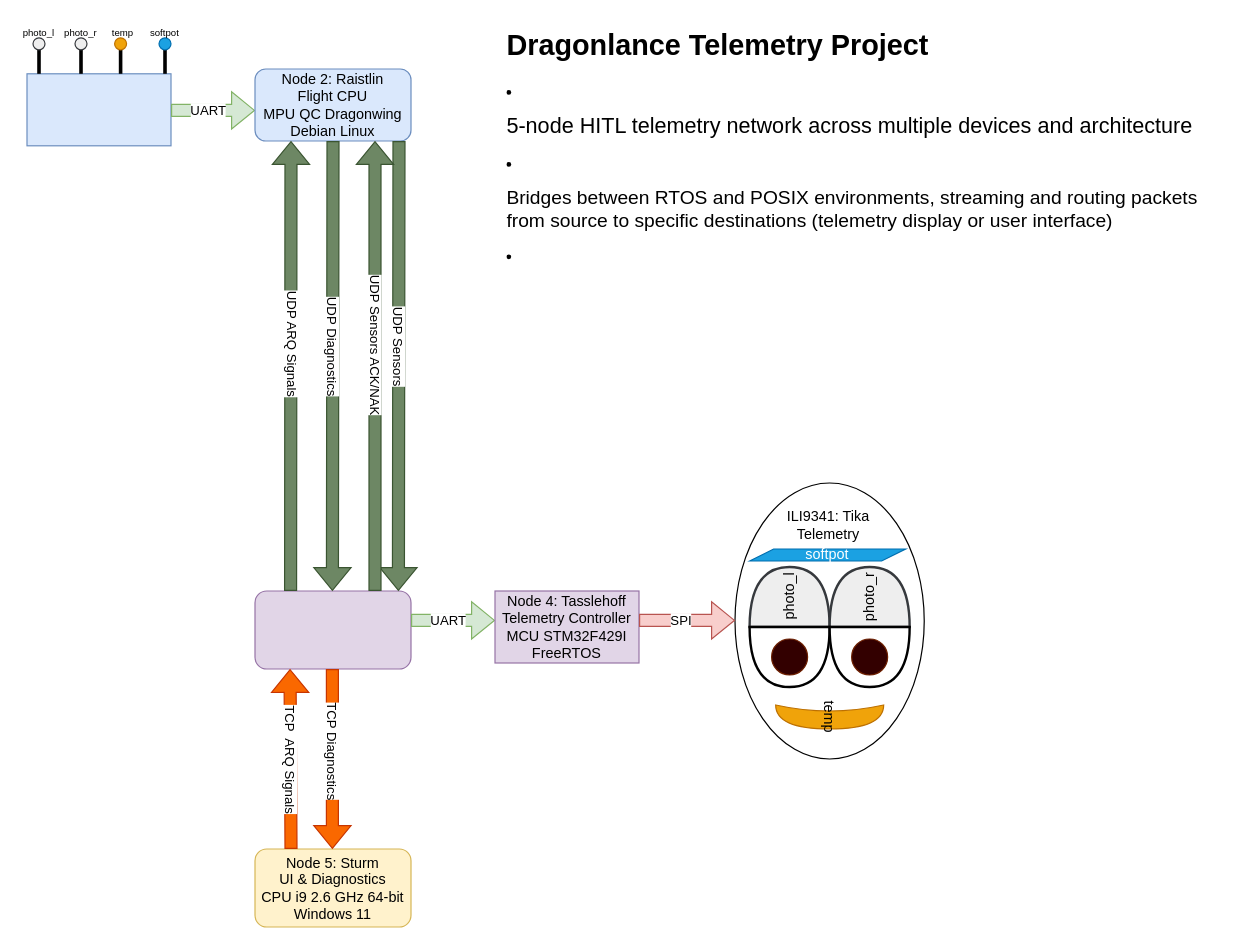
This 1247x948 diagram has some shape labels left out. The shapes that lost their labels are listed below. From the top down, each one's centre as x and y in pixels, then its label:
At (98,109): "Node 1: Caramon Physical Sensors MCU STM32U585 Zephyr RTOS".
At (332,629): "Node 3: Tanis Ground Station Router CPU i5 2.5 GHz 64-bit Ubuntu LTS Distro".
